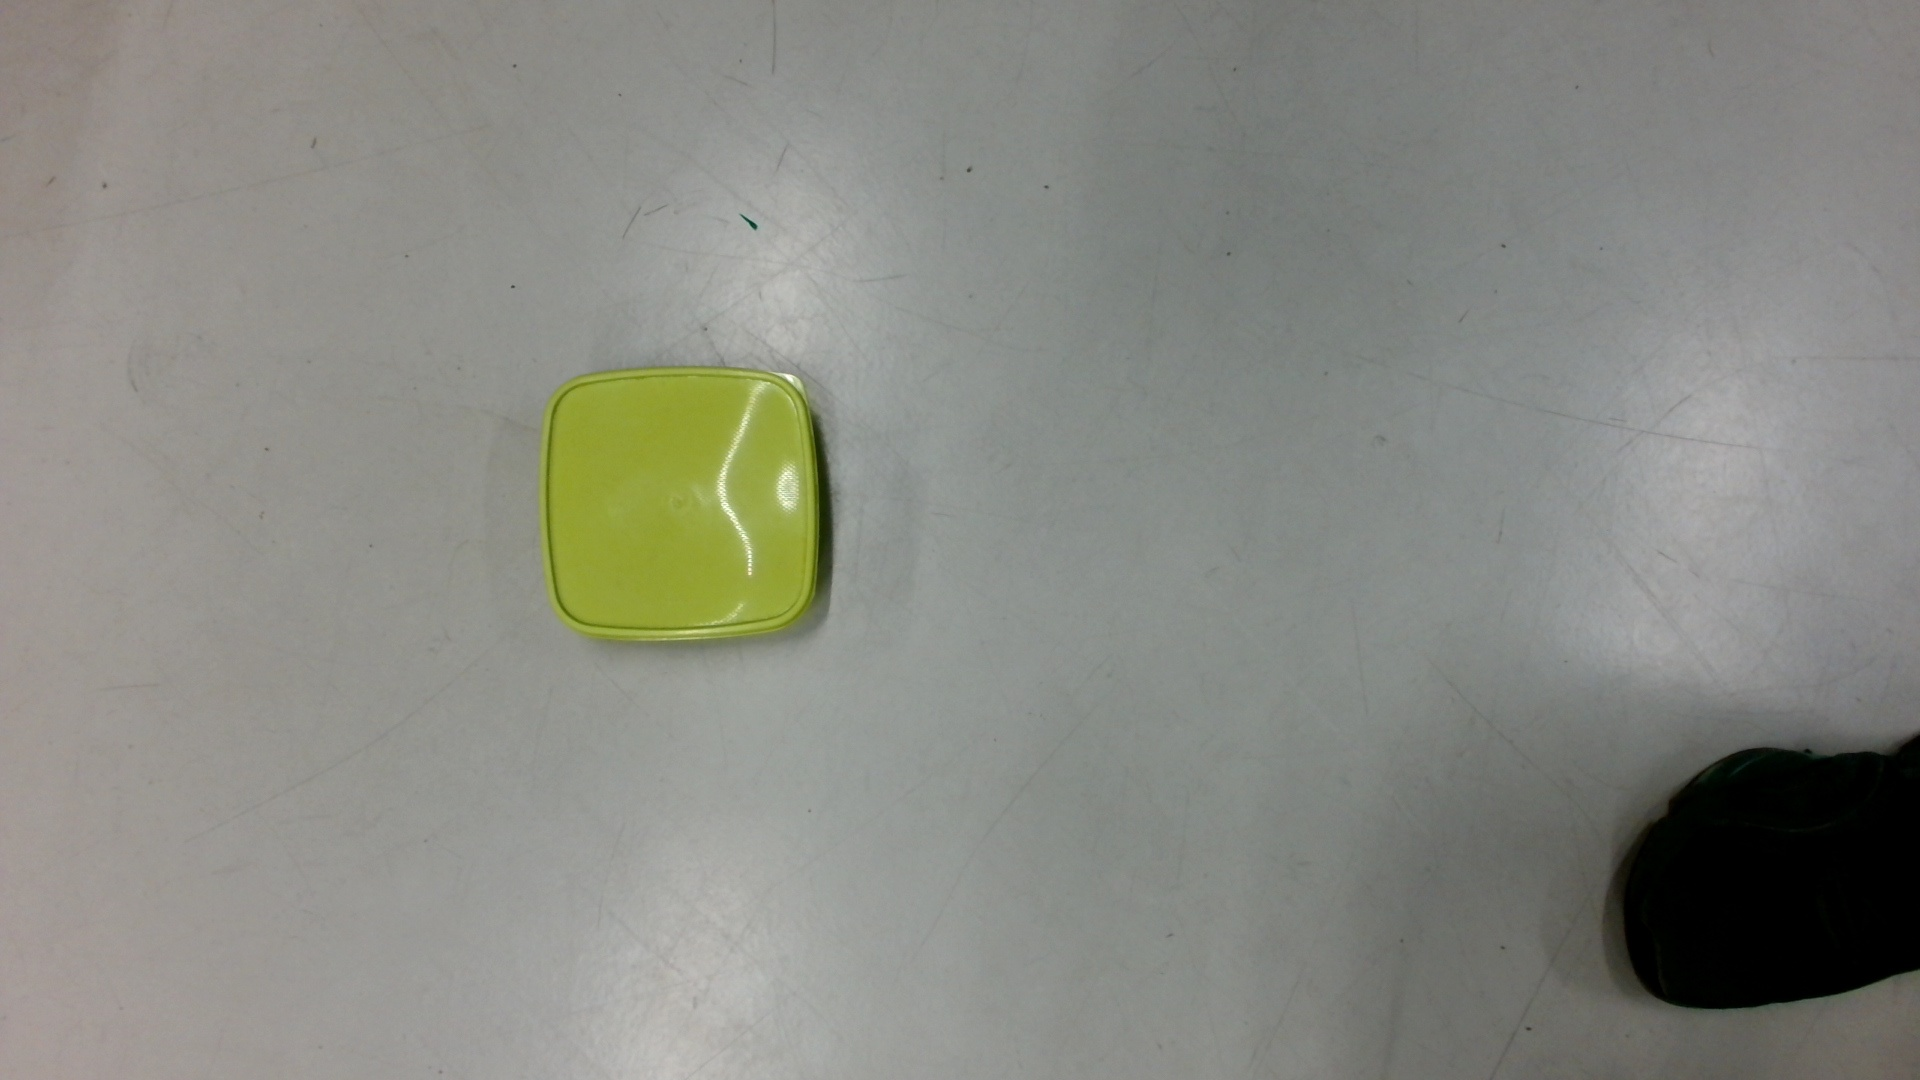Box: (531, 360, 835, 654)
